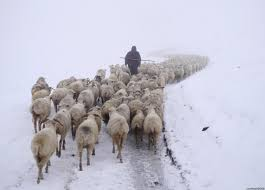sheep: (31, 118, 64, 184), (75, 113, 102, 172), (105, 107, 129, 162), (29, 93, 53, 131), (143, 105, 161, 148), (78, 83, 100, 111), (132, 109, 145, 144), (58, 89, 77, 112), (31, 75, 49, 94), (101, 78, 116, 99), (153, 85, 165, 106), (142, 87, 151, 104)
